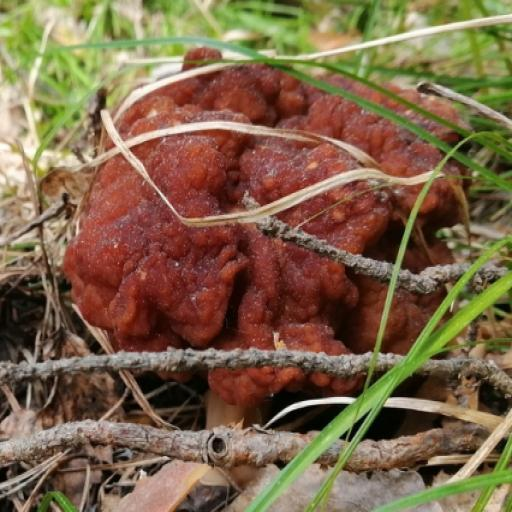mushroom: (66, 45, 496, 419)
